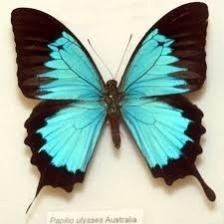butterfly: (12, 4, 215, 200)
